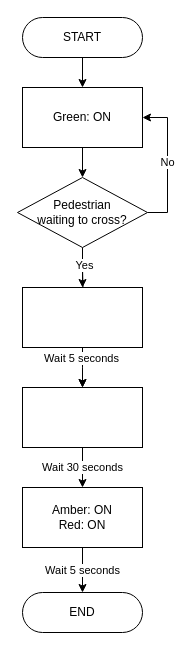
Image size: 193x650. Some labels were removed from this diagram. The shapes that lost their labels are listed below. From the top down, each one's centre as x and y in pixels, then its label:
At (82,317): "Green: OFF Amber: ON".
At (82,417): "Amber: OFF Red: ON".
